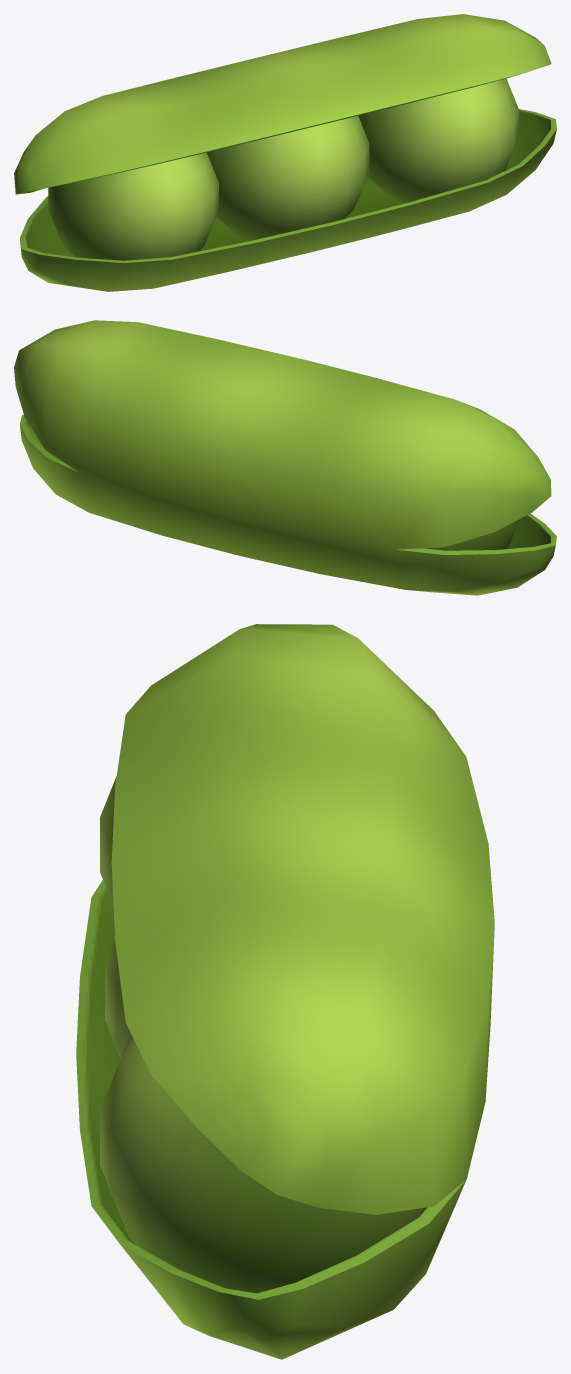
Rendered from pea.FBX.
The picture shows the model from 3 angles, top to bottom: view 1: azimuth 30°, elevation 25°; view 2: azimuth 150°, elevation 25°; view 3: azimuth 270°, elevation 25°; orthographic projection. The views are drawn at different scales.
Visible parts, largest first — view 1: pea; view 2: pea; view 3: pea.
Boxes of the visible parts, x1=… form: pea: x1=14, y1=14, x2=556, y2=291; pea: x1=14, y1=320, x2=556, y2=595; pea: x1=76, y1=624, x2=494, y2=1359.
Bounding box in the file's own units: 47.35 × 15.23 × 16.07.
